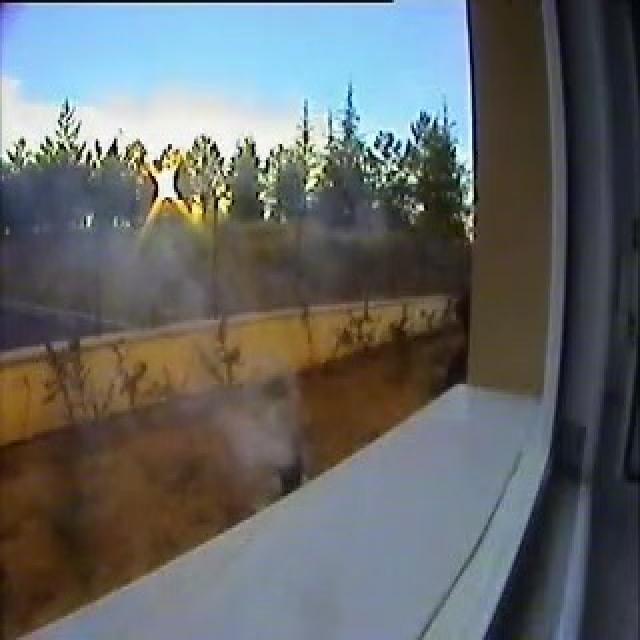smoke: (198, 385, 294, 460)
